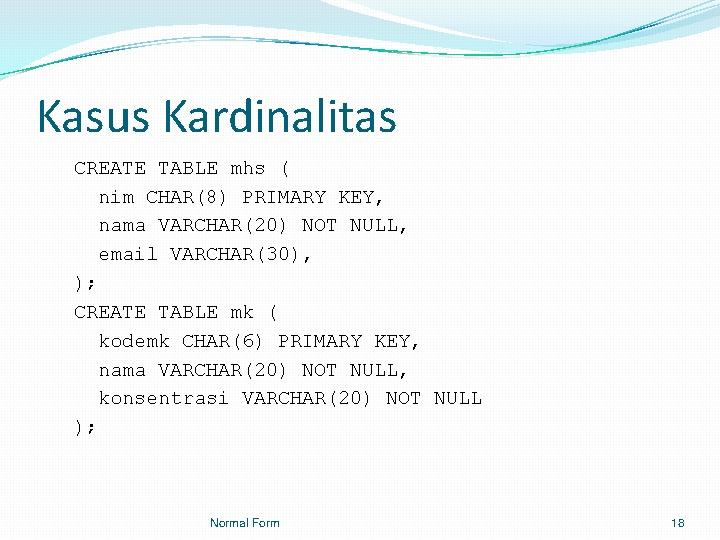paragraph: (62, 153, 535, 453)
title: (36, 84, 410, 144)
